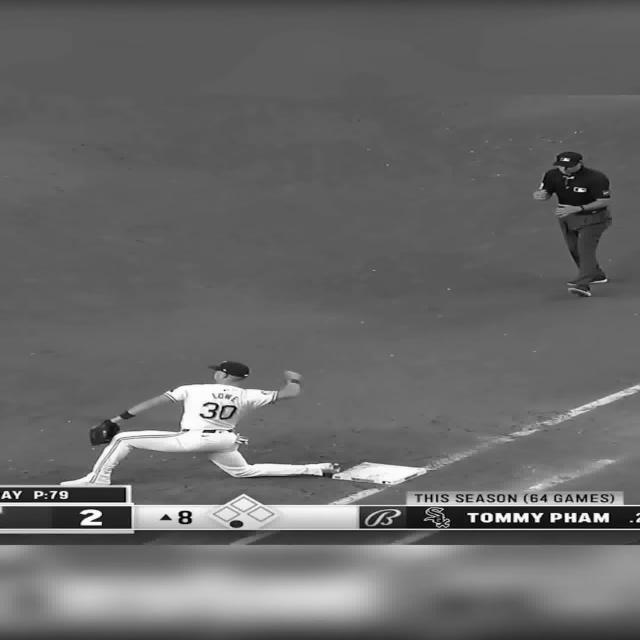base: (338, 462, 428, 486)
baseball_glove: (88, 419, 120, 445)
shoe: (60, 475, 110, 486), (564, 277, 608, 286), (319, 462, 342, 477), (567, 286, 591, 296)
